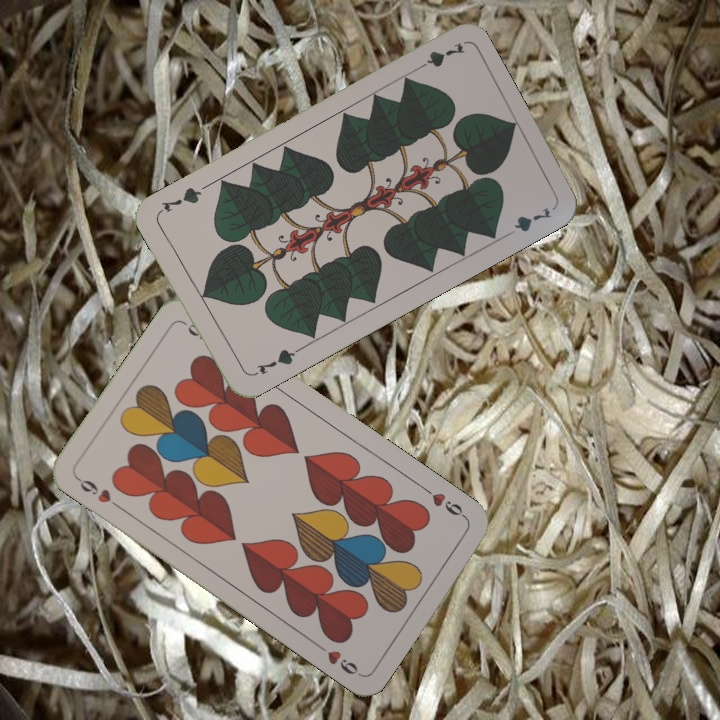G7: (410, 38, 467, 75), (247, 345, 302, 379)
H9: (72, 472, 124, 512), (418, 482, 470, 522)
